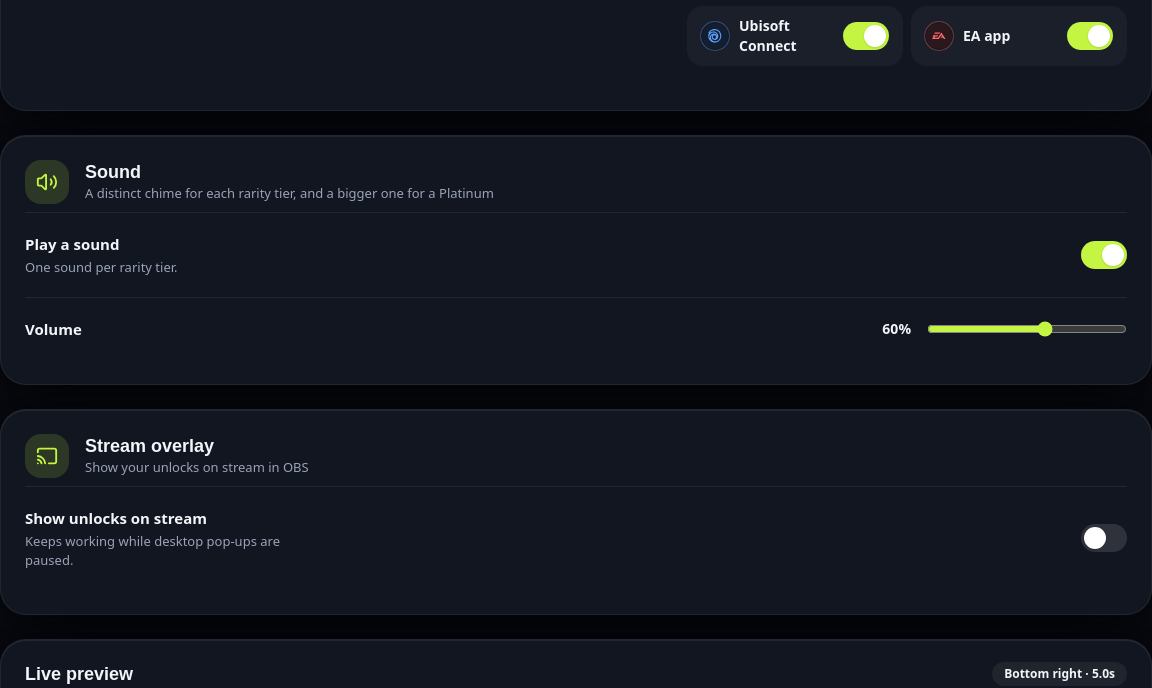
NotificationsCard › shows the volume as a percentage and saves a new one, keeping the sound on
(page scrolled)
Expected: the text "60%" is shown, 882,319 -> 911,338
Set the slider named "Volume" to "0.3" at [990, 329], box 927,321 -> 1127,337
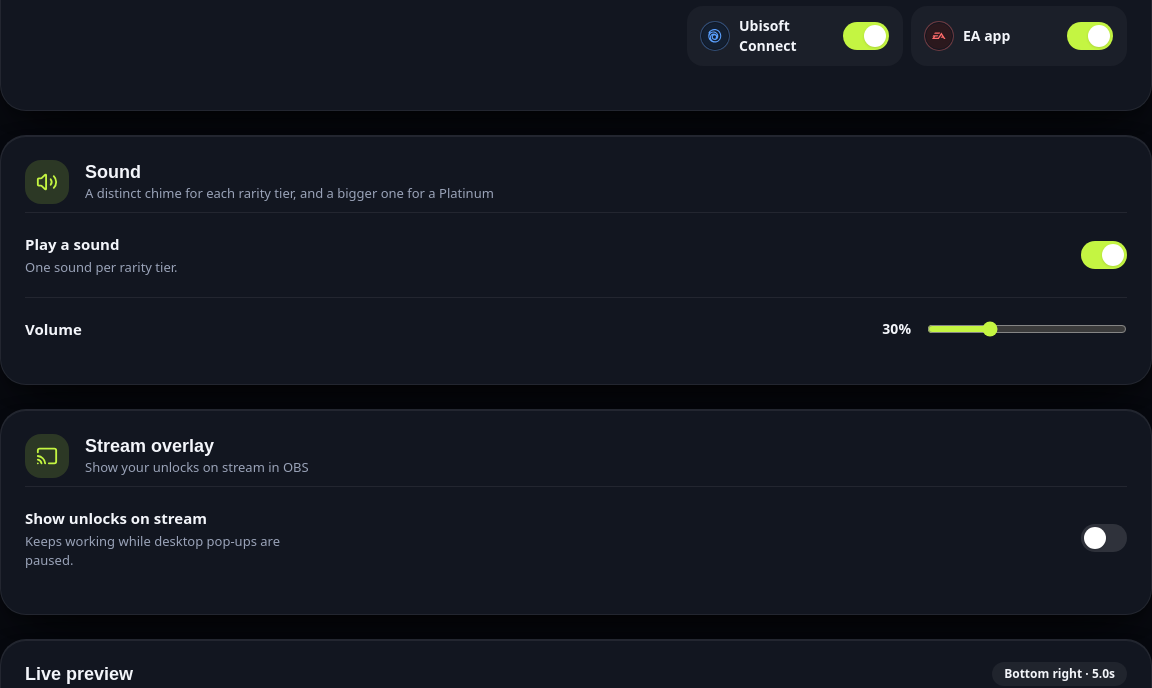
Expected: the text "30%" is shown, 882,319 -> 911,338
